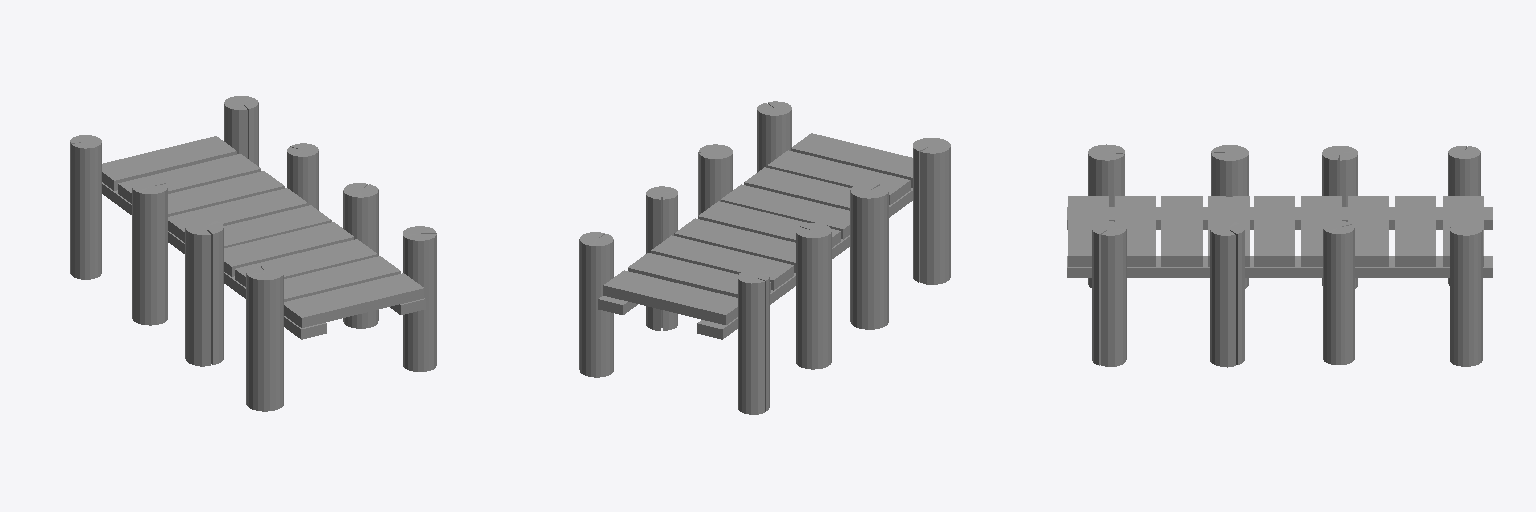
File: steeeeg.obj
3 views of the same model, side by side, from view 1: azimuth 30°, elevation 25°; view 2: azimuth 150°, elevation 25°; view 3: azimuth 270°, elevation 25° (orthographic).
Visible parts, largest first — view 1: Cube.001_Cube.002, Cylinder.002, Cylinder.001, Cylinder.007, Cube.003_Cube.004, Cube.004_Cube.006, Cube.002_Cube.003, Cylinder.005, Cylinder, Cube.005_Cube.007, Cylinder.003, Cylinder.004 (+2 smaller); view 2: Cylinder.002, Cylinder.001, Cube.001_Cube.002, Cube.004_Cube.006, Cylinder.007, Cube.003_Cube.004, Cube.002_Cube.003, Cylinder.004, Cylinder.005, Cube.005_Cube.007, Cylinder.006, Cylinder.003 (+2 smaller); view 3: Cube.004_Cube.006, Cylinder.003, Cylinder, Cube.002_Cube.003, Cube_Cube.001, Cylinder.004, Cube.001_Cube.002, Cylinder.006, Cube.003_Cube.004, Cylinder.001, Cylinder.002, Cylinder.007 (+2 smaller).
Part boxes in pixels (left/top/right/bottom): Cube.001_Cube.002: left=284, top=256, right=423, bottom=327; Cylinder.002: left=185, top=219, right=223, bottom=366; Cylinder.001: left=246, top=265, right=283, bottom=411; Cylinder.007: left=132, top=179, right=167, bottom=325; Cube.003_Cube.004: left=224, top=222, right=377, bottom=286; Cube.004_Cube.006: left=118, top=154, right=284, bottom=216; Cube.002_Cube.003: left=168, top=188, right=331, bottom=247; Cylinder.005: left=70, top=135, right=101, bottom=279; Cylinder: left=403, top=226, right=436, bottom=371; Cube.005_Cube.007: left=102, top=136, right=236, bottom=190; Cylinder.003: left=343, top=183, right=378, bottom=328; Cylinder.004: left=224, top=96, right=258, bottom=166; Cylinder.002: left=850, top=183, right=888, bottom=329; Cylinder.001: left=913, top=138, right=950, bottom=284; Cube.001_Cube.002: left=767, top=133, right=912, bottom=204; Cube.004_Cube.006: left=628, top=235, right=793, bottom=297; Cylinder.007: left=796, top=223, right=831, bottom=369; Cube.003_Cube.004: left=721, top=167, right=850, bottom=239; Cube.002_Cube.003: left=674, top=201, right=840, bottom=272; Cylinder.004: left=579, top=232, right=613, bottom=377; Cylinder.005: left=738, top=270, right=769, bottom=414; Cube.005_Cube.007: left=603, top=270, right=737, bottom=324; Cylinder.006: left=646, top=186, right=677, bottom=330; Cylinder.003: left=698, top=144, right=732, bottom=215; Cube.004_Cube.006: left=1348, top=196, right=1435, bottom=266; Cylinder.003: left=1210, top=221, right=1244, bottom=367; Cylinder: left=1092, top=221, right=1126, bottom=366; Cube.002_Cube.003: left=1254, top=196, right=1341, bottom=266; Cube_Cube.001: left=1067, top=207, right=1492, bottom=277; Cylinder.004: left=1450, top=221, right=1482, bottom=366; Cube.001_Cube.002: left=1068, top=196, right=1155, bottom=266; Cylinder.006: left=1323, top=221, right=1354, bottom=364; Cube.003_Cube.004: left=1161, top=196, right=1249, bottom=266; Cylinder.001: left=1088, top=144, right=1124, bottom=287; Cylinder.002: left=1211, top=145, right=1248, bottom=288; Cylinder.007: left=1322, top=146, right=1357, bottom=288.
Bounding box in the file's own units: 3.5 × 2.35 × 6.87.